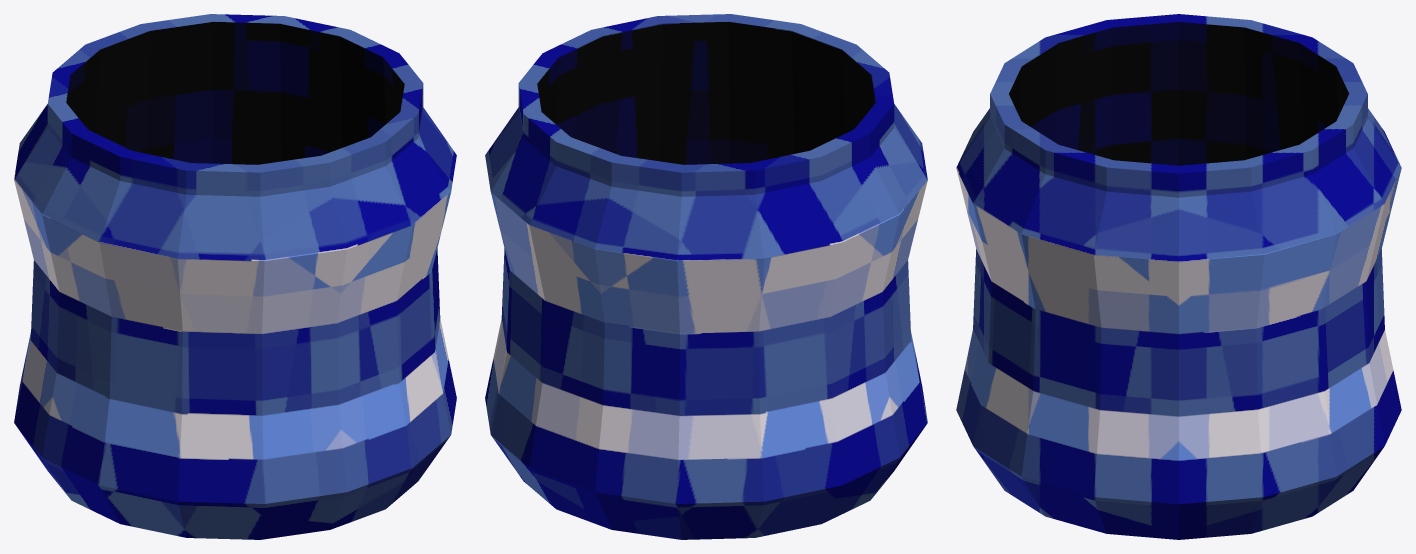
File: jug.fbx
3 views of the same model, side by side, from view 1: azimuth 30°, elevation 25°; view 2: azimuth 150°, elevation 25°; view 3: azimuth 270°, elevation 25° (orthographic).
Parts seen in each view (by area): view 1: jug; view 2: jug; view 3: jug.
Part boxes in pixels (x1=…): jug: x1=14, y1=14, x2=456, y2=539; jug: x1=485, y1=14, x2=927, y2=539; jug: x1=956, y1=14, x2=1401, y2=539.
Size of the model in its own units: 200 by 181 by 200.
3 materials, 3 textured.
